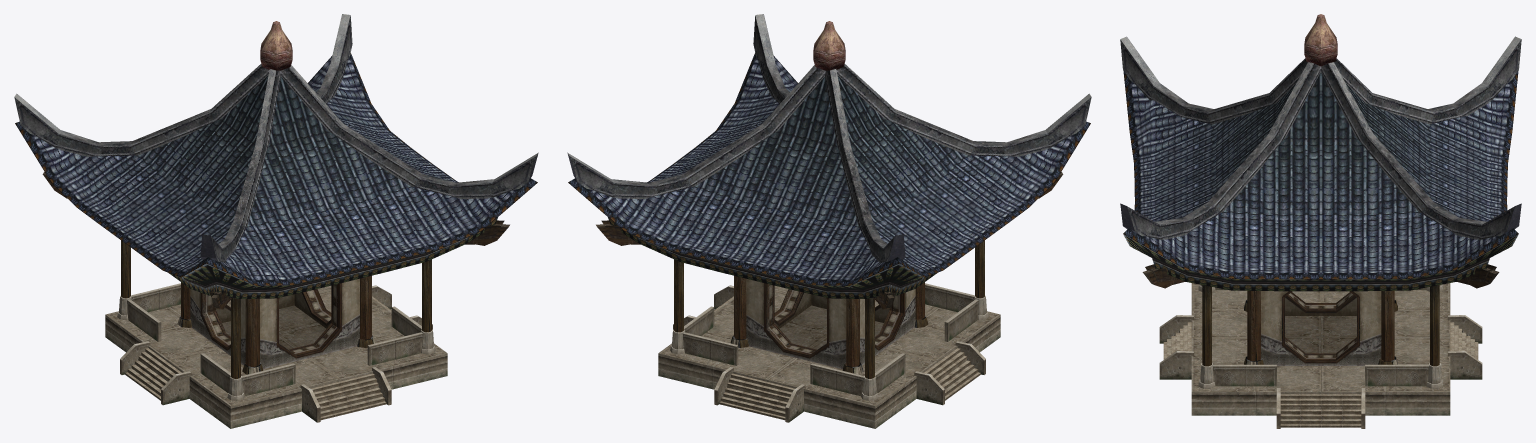
3 renders of one model, left to right at view 1: azimuth 30°, elevation 25°; view 2: azimuth 150°, elevation 25°; view 3: azimuth 270°, elevation 25°, orthographic. The views are drawn at different scales.
Visible parts, largest first — view 1: b1s-017-02, b1s-017-01; view 2: b1s-017-02, b1s-017-01; view 3: b1s-017-02, b1s-017-01.
Part boxes in pixels (x1,y1,x2,y2): b1s-017-02: (14,14,538,428); b1s-017-01: (120,275,432,422); b1s-017-02: (567,14,1091,428); b1s-017-01: (673,275,985,422); b1s-017-02: (1120,14,1521,415); b1s-017-01: (1159,287,1482,428).
Bounding box in the file's own units: 15.62 × 14.9 × 15.62.
